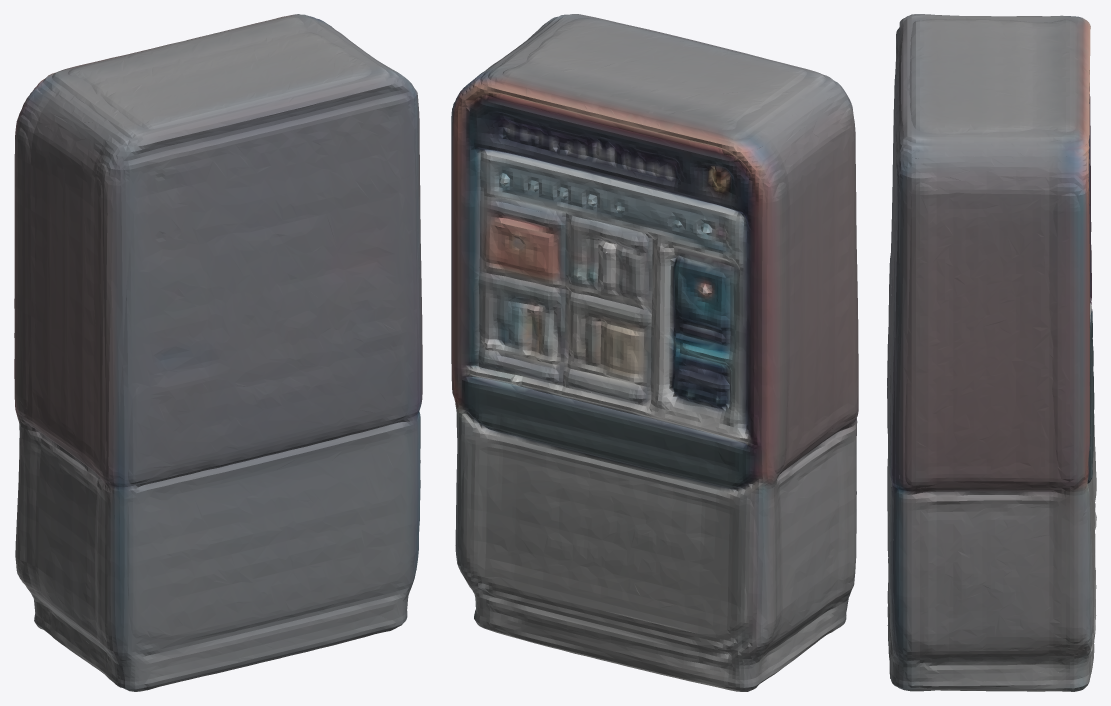
Rendered from room-12-mainstreet-terminal.glb.
3 renders of one model, left to right at view 1: azimuth 30°, elevation 25°; view 2: azimuth 150°, elevation 25°; view 3: azimuth 270°, elevation 25°, orthographic.
Visible parts, largest first — view 1: world; view 2: world; view 3: world.
Part boxes in pixels (box(x1,y1,x2,y2)): world: box(14, 14, 422, 691); world: box(451, 14, 858, 691); world: box(887, 14, 1096, 691).
Bounding box in the file's own units: 0.6178 × 1.01 × 0.3435.
